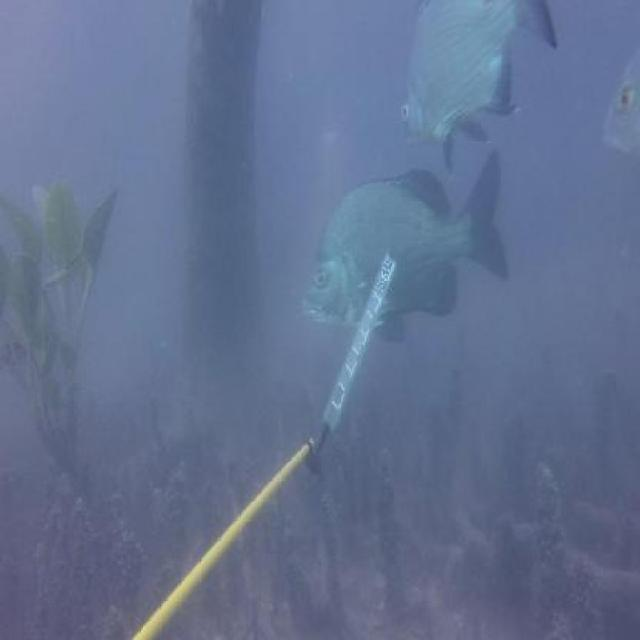Caranx: (597, 39, 640, 170)
acanthopagrus_palmaris: (296, 142, 521, 346), (395, 0, 563, 174)
